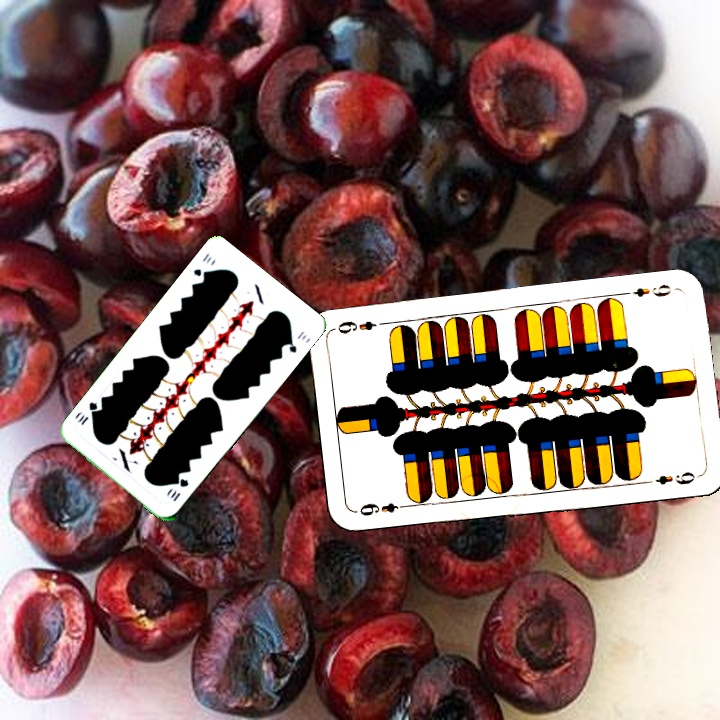E9: (352, 499, 412, 519), (629, 280, 673, 300)
G10: (189, 249, 214, 281), (167, 474, 191, 504)
